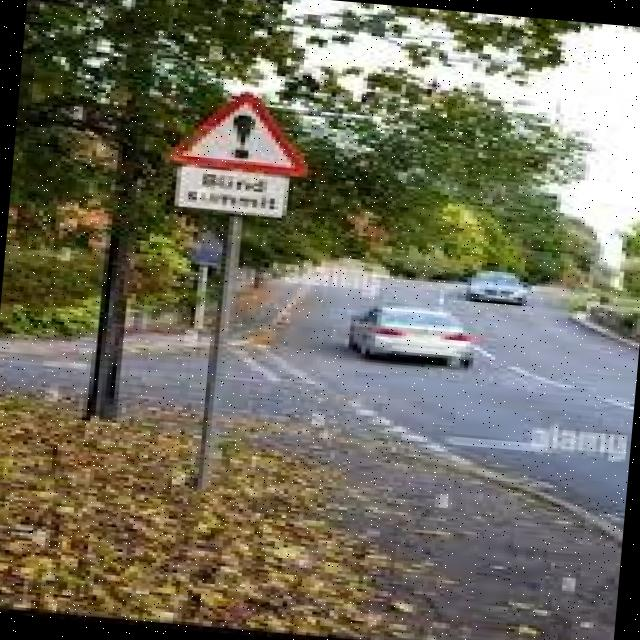warning: (159, 82, 316, 185)
